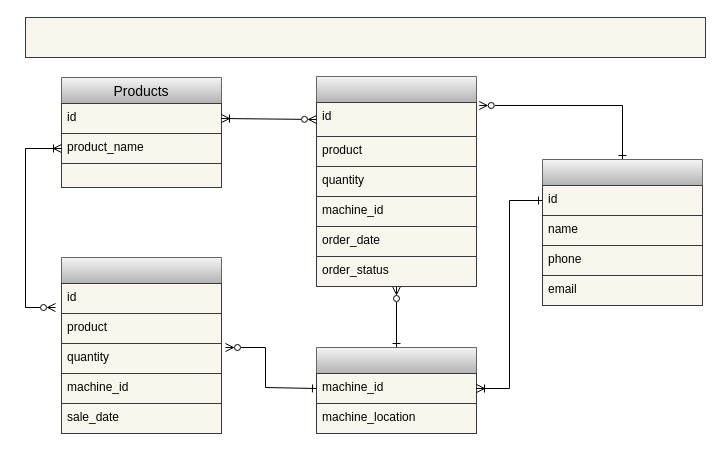
Image size: 723x454. Some labels were removed from this diagram. The shapes that lost their labels are listed below. From the top down, each one's box as (x1, y1, x2, y2) in pixels, then its label:
(24, 16, 706, 58): Vending Machine Inventory Database ERD
(60, 162, 222, 188): product_price
(316, 76, 476, 286): RefillOrder
(542, 158, 702, 306): Employee
(60, 256, 222, 434): Salses
(316, 346, 476, 434): VendingMachine
